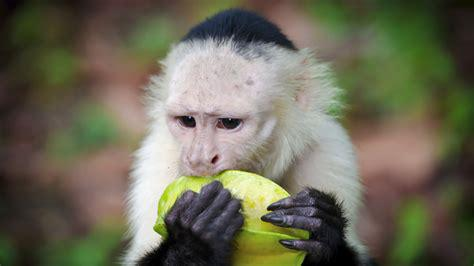monkey: (135, 11, 355, 266)
